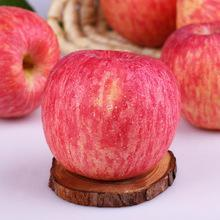apple: (41, 48, 181, 184), (1, 7, 62, 121), (158, 20, 220, 129), (102, 1, 178, 48), (175, 1, 219, 28)
